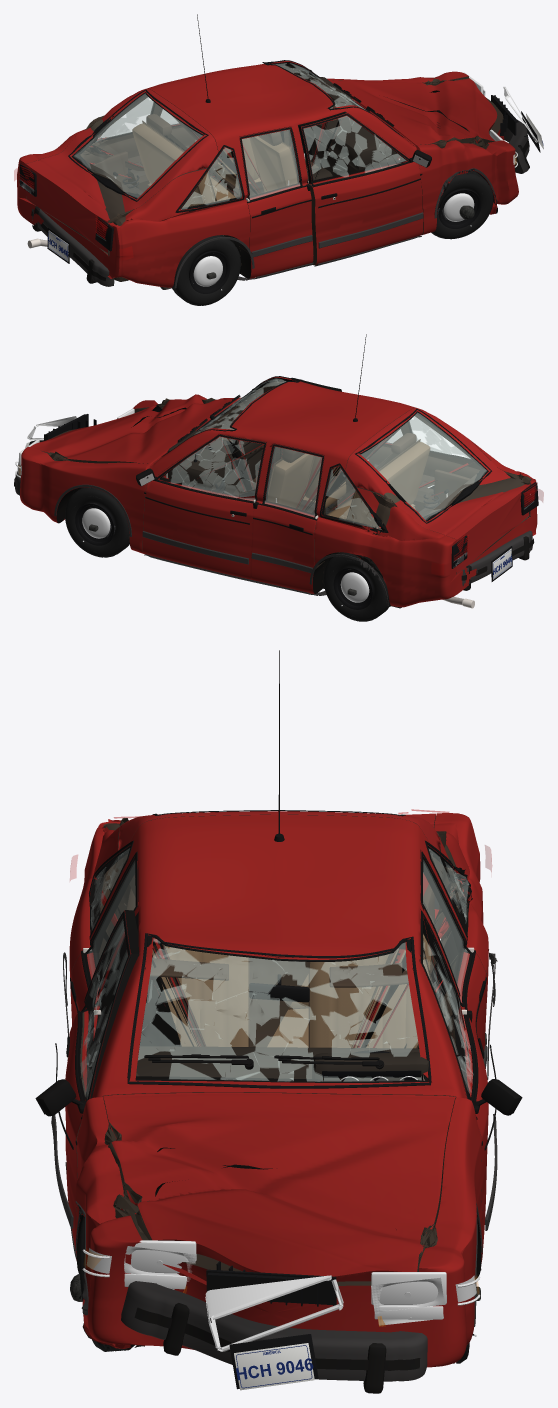
The model's file is hatchback85_front_corner_R_d1.glb.
The picture shows the model from 3 angles, top to bottom: view 1: azimuth 30°, elevation 25°; view 2: azimuth 150°, elevation 25°; view 3: azimuth 270°, elevation 25°; orthographic projection. The views are drawn at different scales.
Parts seen in each view (by area): view 1: Body, Interior, Hatch, Door_FR, Glass_Hatch, Hood, Door_RR, Wheel_RR_mesh, Glass, Glass_RR, Wheel_FR_mesh, Glass_FR (+9 smaller); view 2: Body, Interior, Hatch, Door_FL, Glass_Hatch, Hood, Door_RL, Wheel_FL_mesh, Glass, Wheel_RL_mesh, Glass_FL, Glass_RL (+8 smaller); view 3: Body, Hood, Glass, Interior, Ends, Bumper_F, Door_FR, Trim, Door_FL, Trim_FR, Trim_FL, Door_RL (+7 smaller).
Boxes of the visible parts, bbox=[...] form: Body: bbox=[17, 61, 518, 287]; Interior: bbox=[93, 68, 399, 235]; Hatch: bbox=[26, 88, 218, 254]; Door_FR: bbox=[298, 111, 423, 265]; Glass_Hatch: bbox=[68, 89, 208, 201]; Hood: bbox=[329, 78, 497, 146]; Door_RR: bbox=[239, 126, 313, 278]; Wheel_RR_mesh: bbox=[172, 235, 240, 305]; Glass: bbox=[93, 60, 404, 211]; Glass_RR: bbox=[240, 129, 302, 200]; Wheel_FR_mesh: bbox=[431, 171, 493, 239]; Glass_FR: bbox=[300, 113, 407, 185]; Body: bbox=[20, 377, 537, 607]; Interior: bbox=[167, 406, 469, 552]; Hatch: bbox=[345, 408, 530, 573]; Door_FL: bbox=[142, 434, 266, 579]; Glass_Hatch: bbox=[355, 408, 491, 523]; Hood: bbox=[30, 394, 237, 465]; Door_RL: bbox=[250, 443, 324, 593]; Wheel_FL_mesh: bbox=[65, 487, 129, 557]; Glass: bbox=[162, 376, 469, 532]; Wheel_RL_mesh: bbox=[323, 552, 390, 621]; Glass_FL: bbox=[159, 434, 266, 501]; Glass_RL: bbox=[262, 446, 324, 517]; Body: bbox=[69, 813, 488, 1367]; Hood: bbox=[103, 1092, 455, 1281]; Glass: bbox=[91, 845, 471, 1088]; Interior: bbox=[126, 873, 434, 1080]; Ends: bbox=[82, 1240, 480, 1390]; Bumper_F: bbox=[121, 1281, 427, 1393]; Door_FR: bbox=[65, 910, 139, 1252]; Trim: bbox=[63, 650, 497, 1326]; Door_FL: bbox=[419, 909, 488, 1251]; Trim_FR: bbox=[35, 911, 130, 1261]; Trim_FL: bbox=[420, 910, 522, 1270]; Door_RL: bbox=[420, 850, 486, 1050].
Bounding box in the file's own units: 4.34 × 2.14 × 1.93.
Materials: 33 (5 with a texture image).
